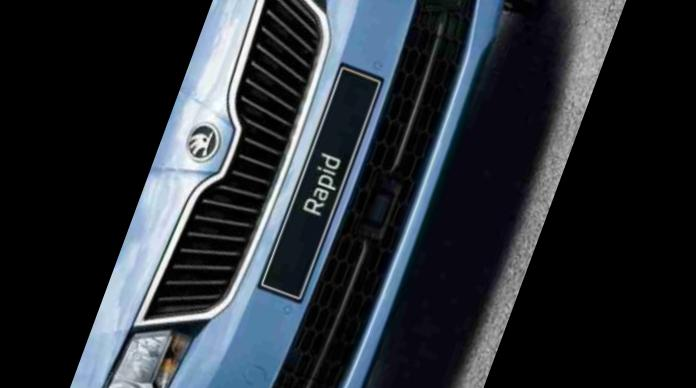plate: (244, 40, 397, 315)
